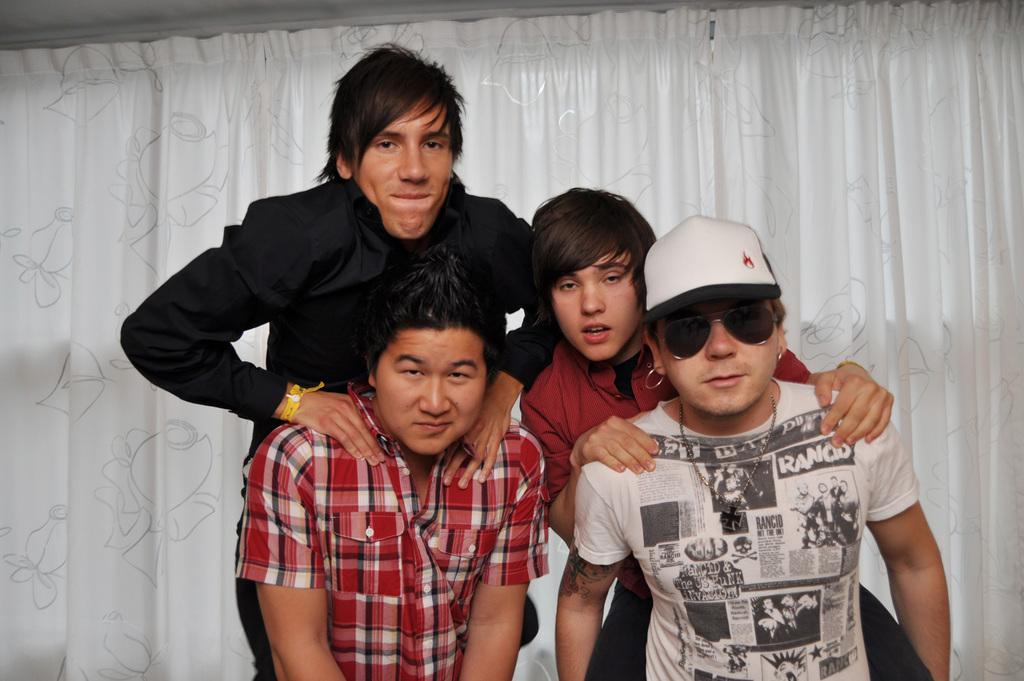Hat: (642, 214, 780, 324)
